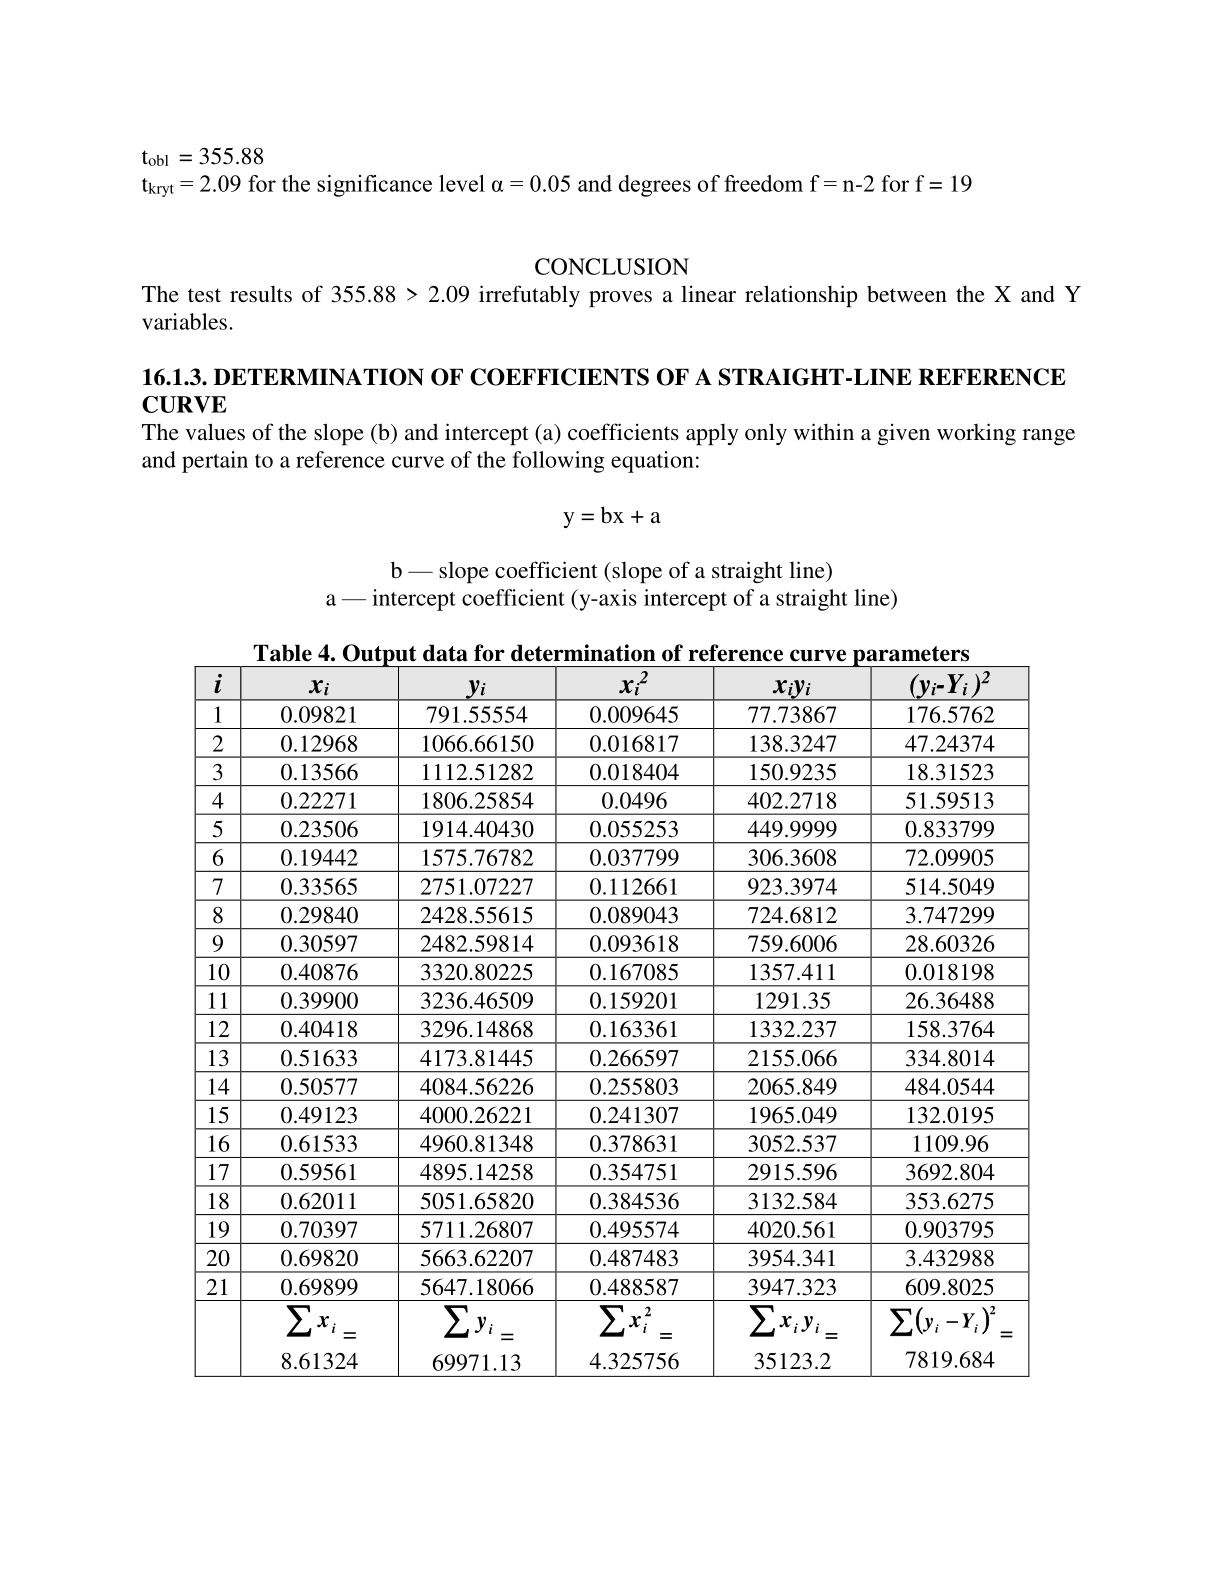full_lined: (184, 660, 1045, 1389)
